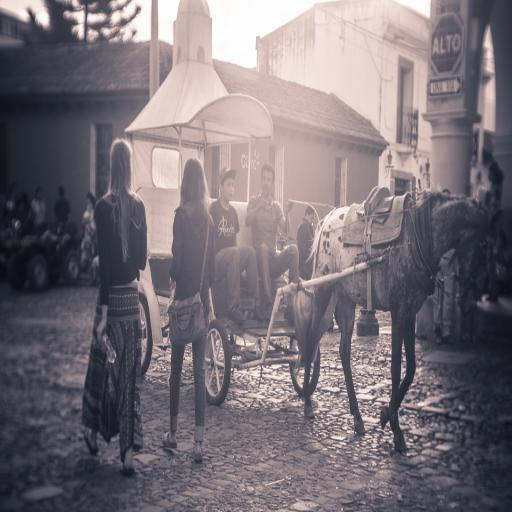Horse: (292, 193, 506, 453)
